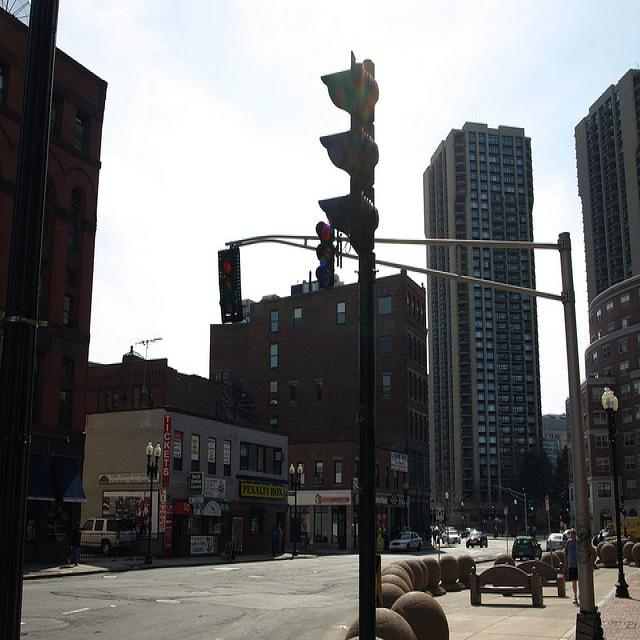Vehicle: (81, 514, 136, 556), (513, 535, 543, 561), (389, 530, 423, 550), (466, 530, 488, 549), (546, 534, 569, 551), (442, 530, 462, 544), (461, 527, 476, 539), (563, 530, 576, 540), (430, 526, 440, 533)
